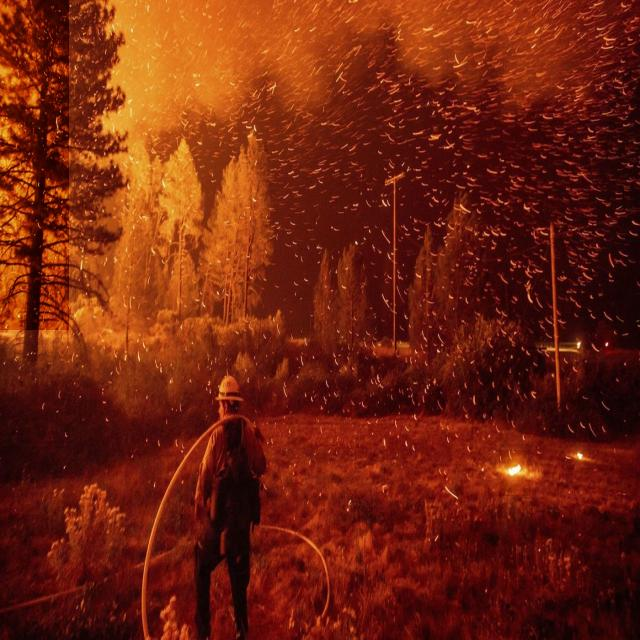Fire: (0, 0, 69, 330), (499, 450, 530, 496)
